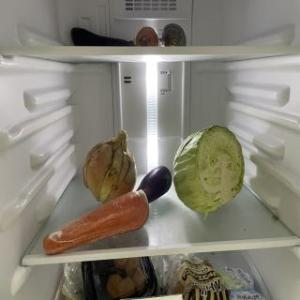cabbage: (173, 124, 245, 214)
carrot: (45, 189, 148, 255), (137, 26, 159, 48)
eggplant: (136, 164, 172, 208), (70, 26, 134, 46)
onion: (84, 129, 136, 203)
